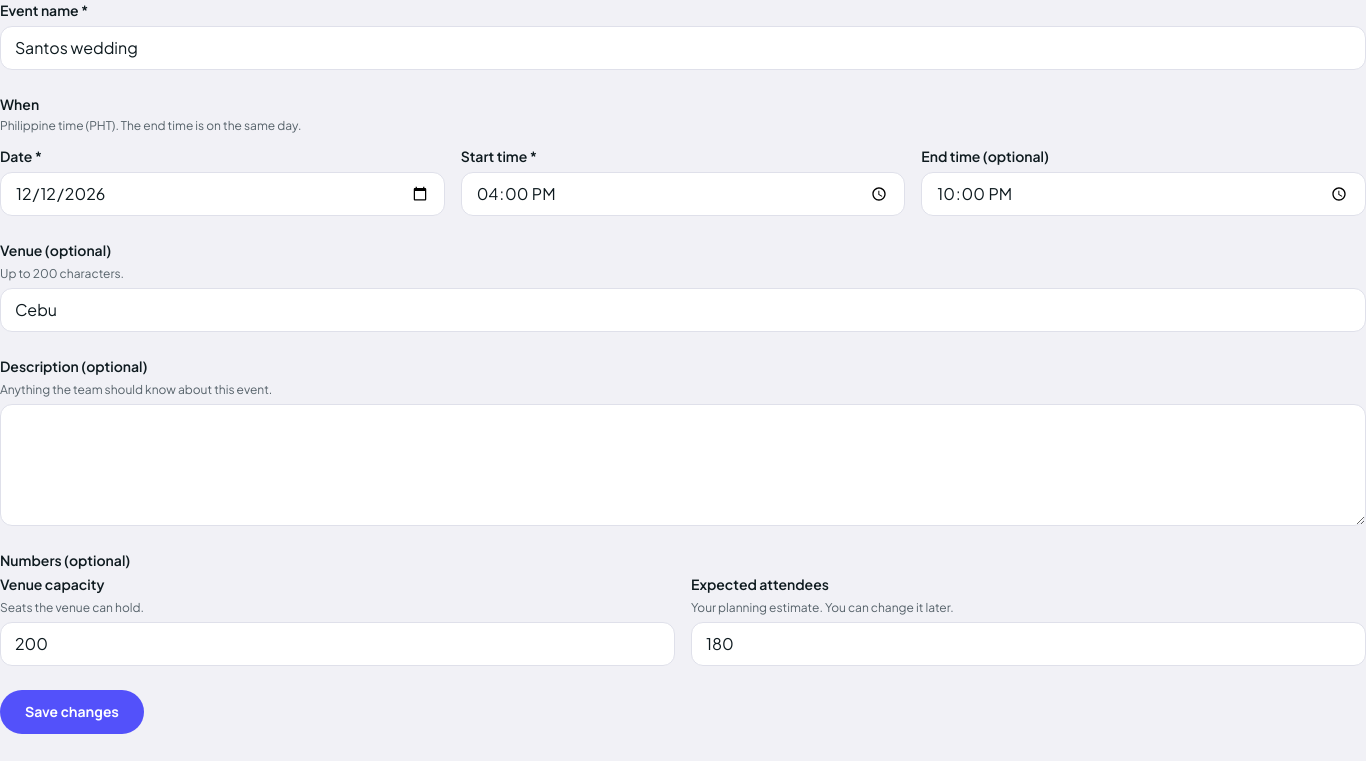
Test: EditEventForm › shows field errors and keeps what the user typed
Click the button "Save changes" at (72, 712), box 0,690 -> 144,734
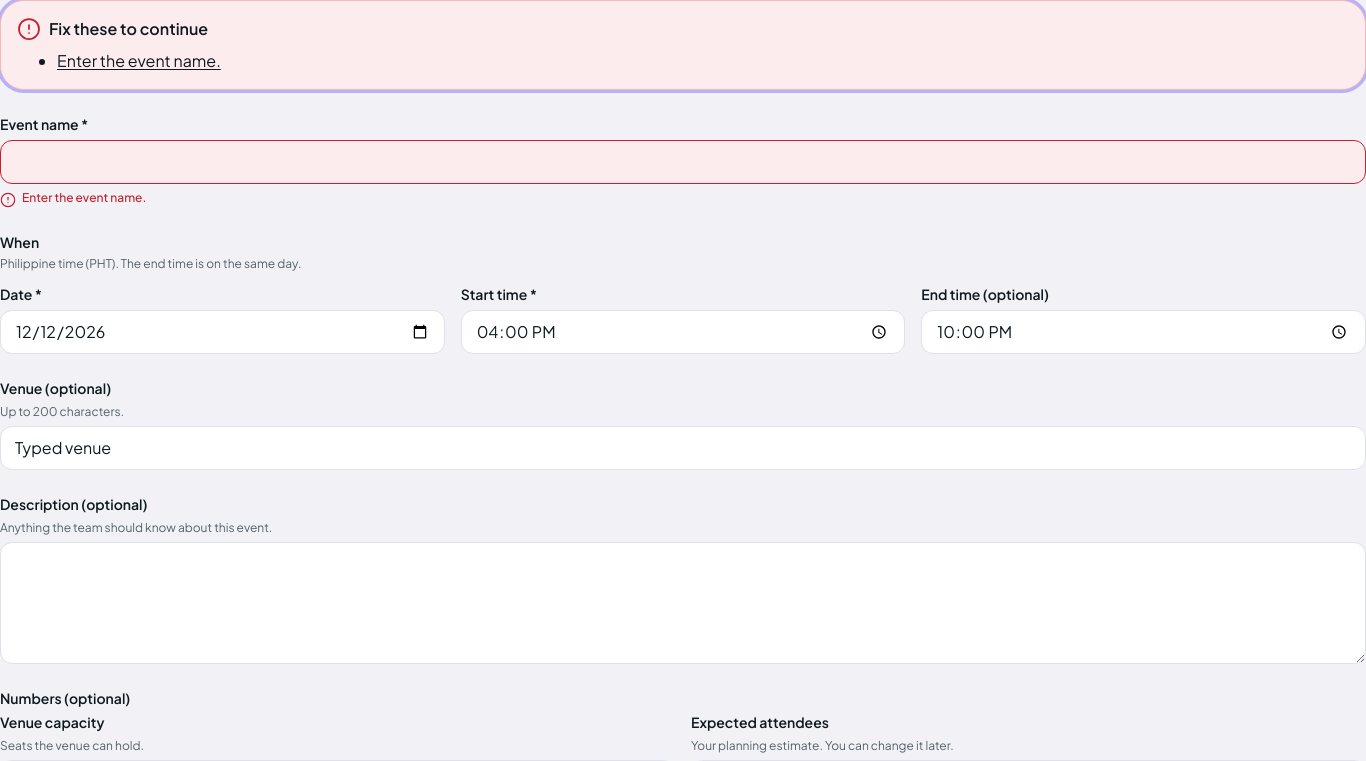
expect the link "Enter the event name." is shown: met, box 57,50 -> 221,71
expect the field labelled "Venue (optional)" holds "Typed venue": met, box 0,426 -> 1365,470
